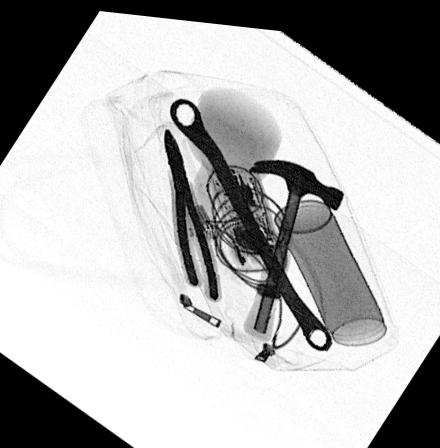Hammer: (235, 153, 344, 341)
Pliers: (161, 123, 219, 296)
Wrench: (166, 95, 330, 343)
